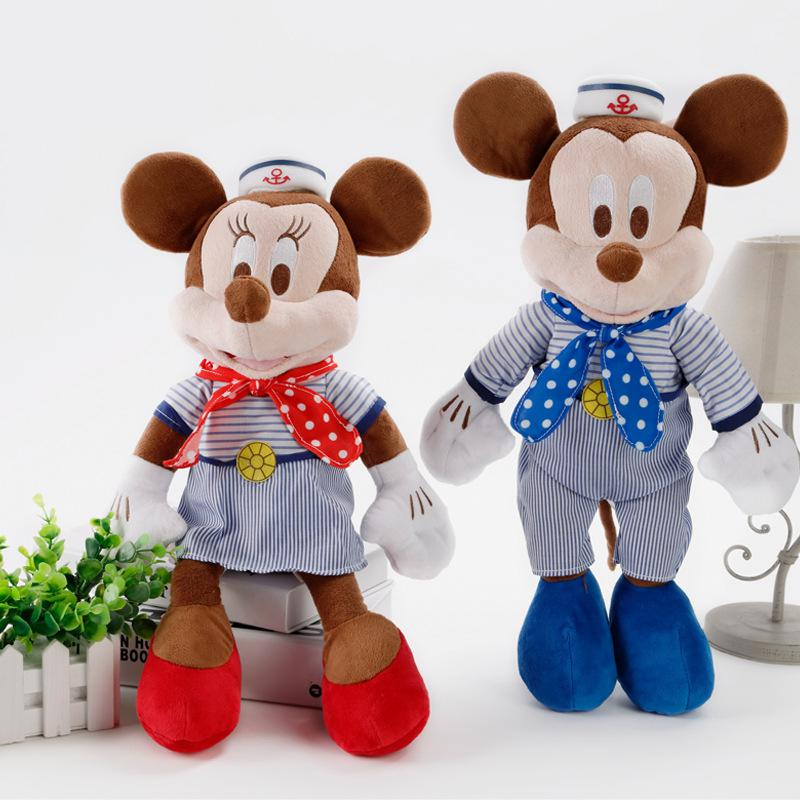Mickey: (448, 62, 789, 329)
